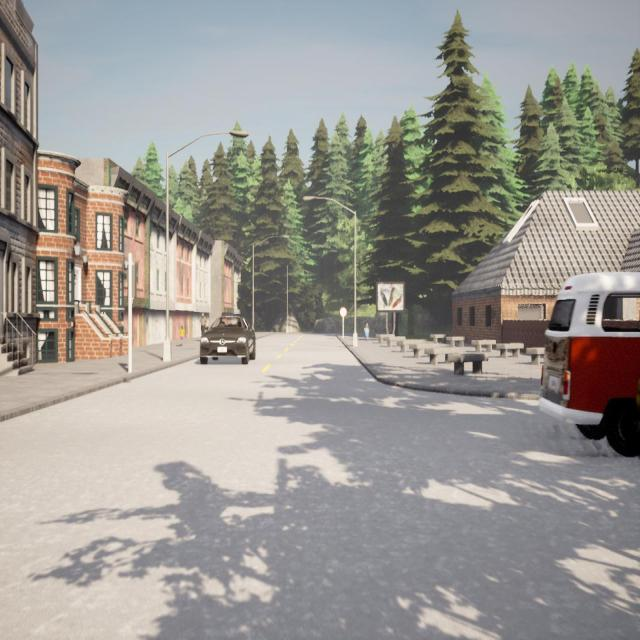Pedestrian: (179, 324, 186, 349), (200, 311, 207, 336), (363, 322, 371, 341)
Traffic_Signs: (339, 307, 347, 317)
Vehicle: (541, 273, 640, 459), (199, 315, 255, 364)
traffic_light: (128, 265, 136, 299)
